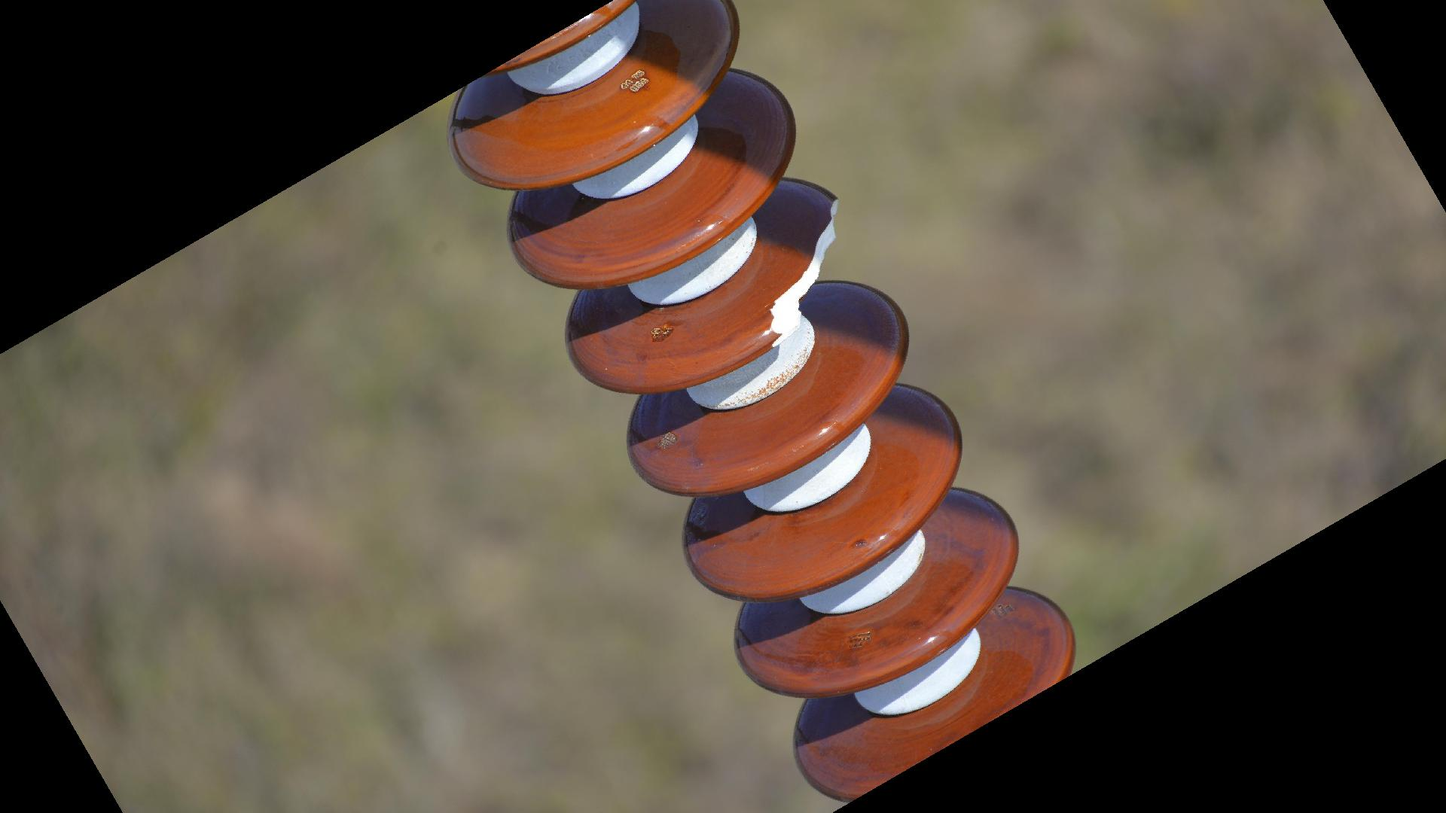insulator: (440, 1, 1090, 813)
insulator_breakage: (761, 189, 845, 352)
